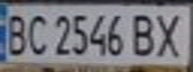2: (48, 10, 72, 56)
4: (87, 10, 109, 56)
5: (66, 10, 90, 56)
6: (106, 10, 130, 57)
B: (127, 10, 163, 57), (0, 9, 30, 56)
C: (21, 10, 51, 56)
X: (151, 8, 190, 59)
